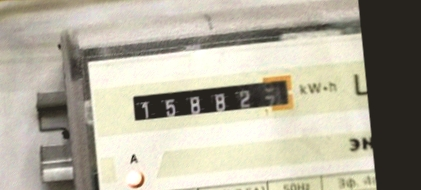1: (139, 99, 150, 118)
2: (238, 87, 252, 108)
5: (161, 97, 177, 117)
7: (262, 92, 276, 105)
8: (212, 90, 227, 112), (188, 93, 202, 114)
screen: (126, 72, 298, 128)
